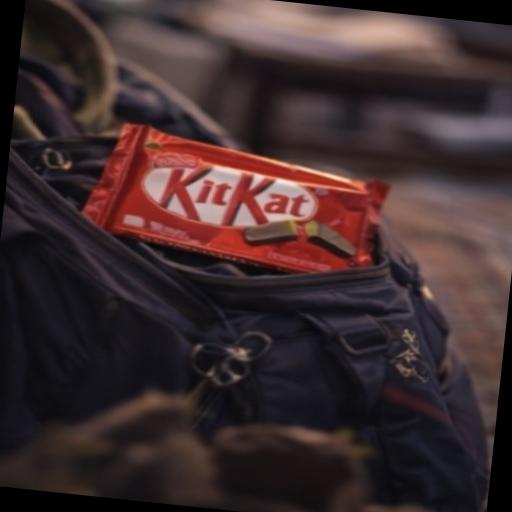kitkat: (37, 84, 463, 336)
